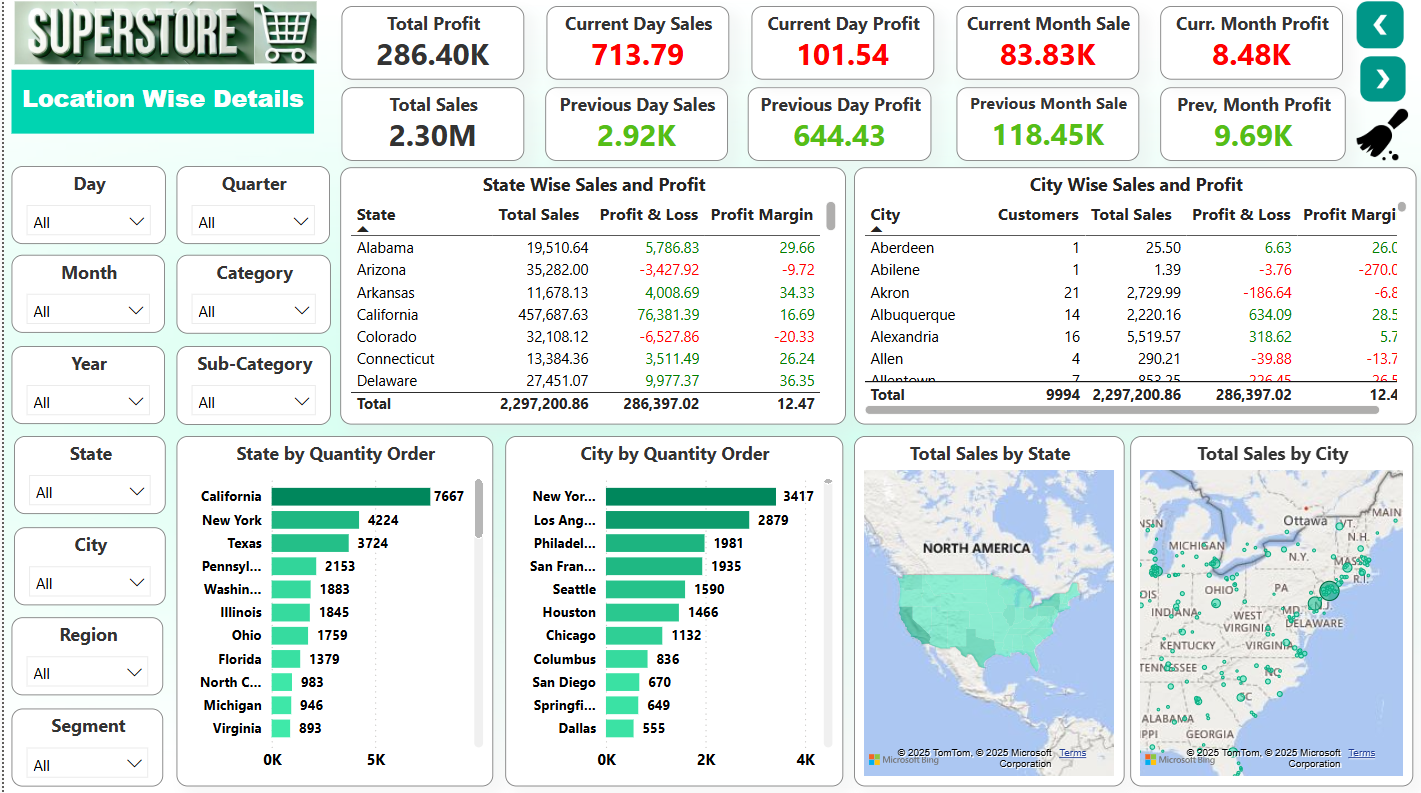

The page's visual inventory and layout, read from the dashboard file:
{"tool":"powerbi","page":{"name":"Location Wise Details","canvas":[1280,720],"ordinal":4},"visuals":[{"type":"textbox","box":[7.2,66.4,272.7,57.7],"z":0},{"type":"slicer","title":"Day","fields":{"Values":["Fiscal year Table.Date.Variation.Date Hierarchy.Day"]},"box":[7.2,152.9,139,70],"z":1000},{"type":"slicer","title":"Quarter","fields":{"Values":["Fiscal year Table.Quarter Number"]},"box":[155.8,152.9,138.5,70.7],"z":2000},{"type":"slicer","title":"Region","fields":{"Values":["Sample_ Superstore.Region"]},"box":[7.2,560.4,137.1,70.7],"z":3000},{"type":"slicer","title":"Segment","fields":{"Values":["Sample_ Superstore.Segment"]},"box":[7.2,642,137.1,70.7],"z":4000},{"type":"slicer","title":"City","fields":{"Values":["Sample_ Superstore.City"]},"box":[8.7,478.8,137.1,70.7],"z":5000},{"type":"slicer","title":"State","fields":{"Values":["Sample_ Superstore.State"]},"box":[8.7,397.1,137.1,70.7],"z":6000},{"type":"slicer","title":"Year","fields":{"Values":["Fiscal year Table.Fiscal Year"]},"box":[7.2,315.5,138.5,70.7],"z":7000},{"type":"slicer","title":"Month","fields":{"Values":["Fiscal year Table.Month Name"]},"box":[7.2,233.9,138.5,70.7],"z":8000},{"type":"slicer","title":"Sub-Category","fields":{"Values":["Sample_ Superstore.Sub-Category"]},"box":[155.3,315.5,139.4,70.9],"z":9000},{"type":"slicer","title":"Category","fields":{"Values":["Sample_ Superstore.Category"]},"box":[155.3,233.6,139.4,70.9],"z":10000},{"type":"card","title":"Total Profit","fields":{"Values":["Sample_ Superstore.Total Profit"]},"box":[304.4,8.7,164.5,66.4],"z":11000},{"type":"card","title":"Total Sales","fields":{"Values":["Sample_ Superstore.Total Sales"]},"box":[304.4,82.2,164.5,66.4],"z":12000},{"type":"card","title":"Previous Day Sales","fields":{"Values":["Sample_ Superstore.Previous Day Sales"]},"box":[487.7,82.2,164.5,66.4],"z":13000},{"type":"card","title":"Current Day Sales","fields":{"Values":["Sample_ Superstore.Current Date Sales"]},"box":[489.1,8.7,164.5,66.4],"z":14000},{"type":"card","title":"Previous Day Profit","fields":{"Values":["Sample_ Superstore.Previous Day Profit"]},"box":[670.9,82.2,165.9,66.4],"z":15000},{"type":"card","title":"Current Day Profit","fields":{"Values":["Sample_ Superstore.Current Day Profit"]},"box":[673.8,8.7,164.5,66.4],"z":16000},{"type":"card","title":"Previous Month Sale","fields":{"Values":["Sample_ Superstore.Previous Month Sales"]},"box":[858.4,82.2,164.5,66.4],"z":17000},{"type":"card","title":"Current Month Sale","fields":{"Values":["Sample_ Superstore.Current Month Sales (Selected)"]},"box":[858.4,8.7,164.5,66.4],"z":18000},{"type":"image","box":[0,0,235.2,66.4],"z":19000,"group":"g1"},{"type":"card","title":"Prev, Month Profit","fields":{"Values":["Sample_ Superstore.Previous Month Profit"]},"box":[1043.1,82.2,167.4,66.4],"z":19000},{"type":"card","title":"Curr. Month Profit","fields":{"Values":["Sample_ Superstore.Current Month Profit"]},"box":[1043.1,8.7,164.5,66.4],"z":20000},{"type":"image","box":[1209,49.1,67.8,50.5],"z":21000},{"type":"image","box":[1211.9,0,59.2,51.9],"z":22000},{"type":"tableEx","title":"State Wise Sales and Profit","fields":{"Values":["Sample_ Superstore.State","Sample_ Superstore.Total Sales","Sample_ Superstore.Total Profit","Sample_ Superstore.Profit Margin"]},"box":[303.3,154.1,456.1,232.3],"z":23000},{"type":"image","box":[218.9,0,69.7,66],"z":24000,"group":"g1"},{"type":"tableEx","title":"City Wise Sales and Profit","fields":{"Values":["Sample_ Superstore.City","Sample_ Superstore.Customer ID","Sample_ Superstore.Total Sales","Sample_ Superstore.Total Profit","Sample_ Superstore.Profit Margin"]},"box":[766.7,154.1,507.5,232.3],"z":24000},{"type":"barChart","title":"State by Quantity Order","fields":{"Category":["Sample_ Superstore.State"],"Y":["Sample_ Superstore.Sum of Orders"]},"box":[155.8,396.8,285.7,316],"z":25000},{"type":"barChart","title":"City by Quantity Order","fields":{"Y":["Sample_ Superstore.Sum of Orders"],"Category":["Sample_ Superstore.City"]},"box":[451.6,396.8,304.4,316],"z":26000},{"type":"azureMap","fields":{"Category":["Sample_ Superstore.State"],"Size":["Sample_ Superstore.Total Sales"]},"box":[766.1,396.8,243.8,316],"z":27000},{"type":"azureMap","fields":{"Size":["Sample_ Superstore.Total Sales"],"Category":["Sample_ Superstore.City"]},"box":[1015.7,396.8,255.4,316],"z":28000},{"type":"image","box":[1211.9,96.7,62,56.3],"z":29000},{"type":"group","id":"g1","title":"Group 1","box":[0,0,288.6,66.4],"z":30000}]}

Visuals, with their boxes in screenshot pixels (x1, y1, x2, y2), scaled from the page's 1280x720 canvas onto the 1421x793 screenshot:
textbox: <region>8, 73, 311, 137</region>
"Day" slicer: <region>8, 168, 162, 245</region>
"Quarter" slicer: <region>173, 168, 327, 246</region>
"Region" slicer: <region>8, 617, 160, 695</region>
"Segment" slicer: <region>8, 707, 160, 785</region>
"City" slicer: <region>10, 527, 162, 605</region>
"State" slicer: <region>10, 437, 162, 515</region>
"Year" slicer: <region>8, 347, 162, 425</region>
"Month" slicer: <region>8, 258, 162, 335</region>
"Sub-Category" slicer: <region>172, 347, 327, 426</region>
"Category" slicer: <region>172, 257, 327, 335</region>
"Total Profit" card: <region>338, 10, 521, 83</region>
"Total Sales" card: <region>338, 91, 521, 164</region>
"Previous Day Sales" card: <region>541, 91, 724, 164</region>
"Current Day Sales" card: <region>543, 10, 726, 83</region>
"Previous Day Profit" card: <region>745, 91, 929, 164</region>
"Current Day Profit" card: <region>748, 10, 931, 83</region>
"Previous Month Sale" card: <region>953, 91, 1136, 164</region>
"Current Month Sale" card: <region>953, 10, 1136, 83</region>
image: <region>0, 0, 261, 73</region>
"Prev, Month Profit" card: <region>1158, 91, 1344, 164</region>
"Curr. Month Profit" card: <region>1158, 10, 1341, 83</region>
image: <region>1342, 54, 1417, 110</region>
image: <region>1345, 0, 1411, 57</region>
"State Wise Sales and Profit" tableEx: <region>337, 170, 843, 426</region>
image: <region>243, 0, 320, 73</region>
"City Wise Sales and Profit" tableEx: <region>851, 170, 1415, 426</region>
"State by Quantity Order" barChart: <region>173, 437, 490, 785</region>
"City by Quantity Order" barChart: <region>501, 437, 839, 785</region>
azureMap - Sample_ Superstore.State x Sample_ Superstore.Total Sales: <region>850, 437, 1121, 785</region>
azureMap - Sample_ Superstore.Total Sales x Sample_ Superstore.City: <region>1128, 437, 1411, 785</region>
image: <region>1345, 107, 1414, 169</region>
"Group 1" group: <region>0, 0, 320, 73</region>
